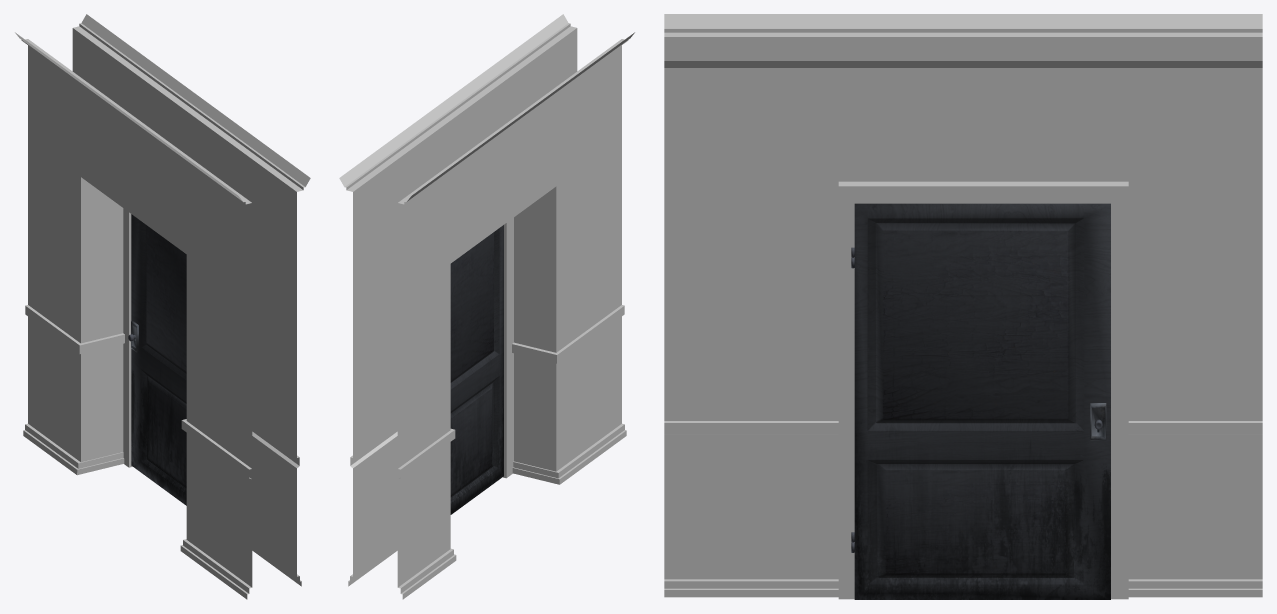
Rendered from FPH_Door.fbx.
3 renders of one model, left to right at view 1: azimuth 30°, elevation 25°; view 2: azimuth 150°, elevation 25°; view 3: azimuth 270°, elevation 25°, orthographic. The views are drawn at different scales.
Visible parts, largest first — view 1: FPH_Wall_Diffuse, FPH_Door_Diffuse, FPH_Door_Diffuse2; view 2: FPH_Wall_Diffuse, FPH_Door_Diffuse, FPH_Door_Diffuse2; view 3: FPH_Wall_Diffuse, FPH_Door_Diffuse, FPH_Door_Diffuse2.
Boxes of the visible parts, x1,y1,x2,y2 form: FPH_Wall_Diffuse: [15, 14, 310, 599]; FPH_Door_Diffuse: [128, 214, 186, 505]; FPH_Door_Diffuse2: [123, 208, 132, 467]; FPH_Wall_Diffuse: [339, 14, 634, 599]; FPH_Door_Diffuse: [450, 225, 503, 514]; FPH_Door_Diffuse2: [503, 217, 513, 478]; FPH_Wall_Diffuse: [664, 14, 1262, 597]; FPH_Door_Diffuse: [851, 203, 1110, 599]; FPH_Door_Diffuse2: [838, 181, 1128, 599].
Size of the model in its own units: 2.51 by 13.31 by 13.3.
